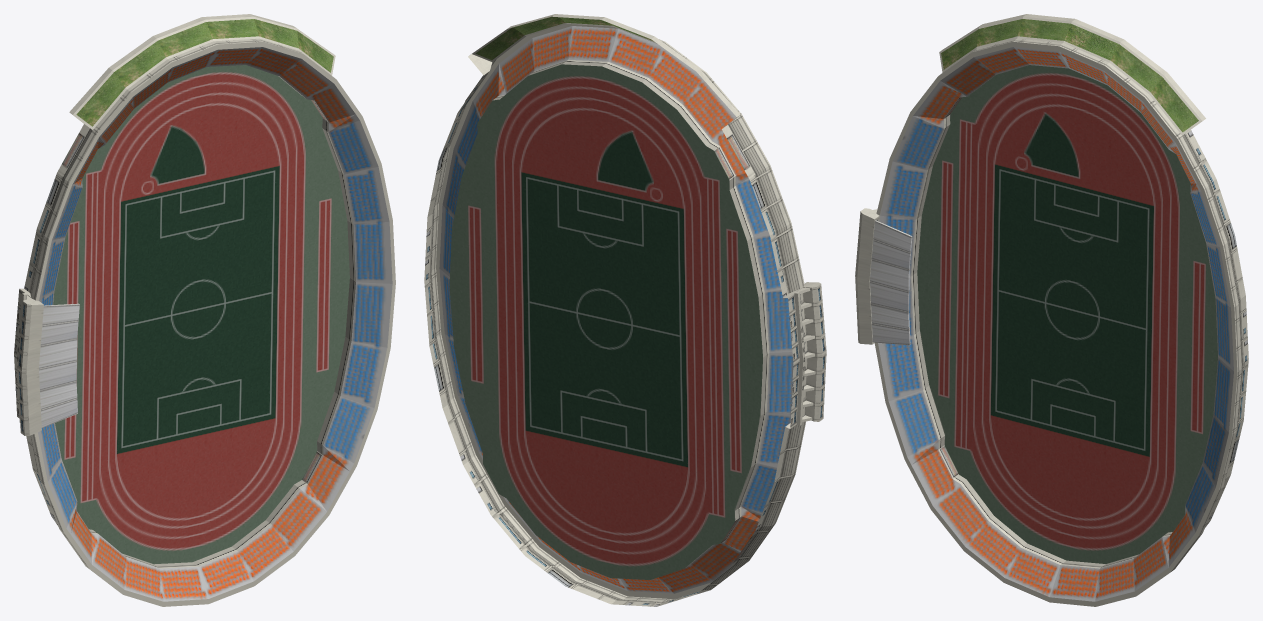
File: KOR_TD0003_GYN_MIRYANG_PUB_PG_S.OBJ
3 views of the same model, side by side, from view 1: azimuth 30°, elevation 25°; view 2: azimuth 150°, elevation 25°; view 3: azimuth 330°, elevation 25° (orthographic). The views are drawn at different scales.
Visible parts, largest first — view 1: KOR_TD0003_GYN_MIRYANG_PUB_PG_S; view 2: KOR_TD0003_GYN_MIRYANG_PUB_PG_S; view 3: KOR_TD0003_GYN_MIRYANG_PUB_PG_S.
Part boxes in pixels (x1=…): KOR_TD0003_GYN_MIRYANG_PUB_PG_S: x1=14, y1=14, x2=395, y2=606; KOR_TD0003_GYN_MIRYANG_PUB_PG_S: x1=424, y1=14, x2=826, y2=606; KOR_TD0003_GYN_MIRYANG_PUB_PG_S: x1=855, y1=14, x2=1248, y2=606.
Bounding box in the file's own units: 138 × 200 × 13.6.
Materials: 1 (1 with a texture image).
